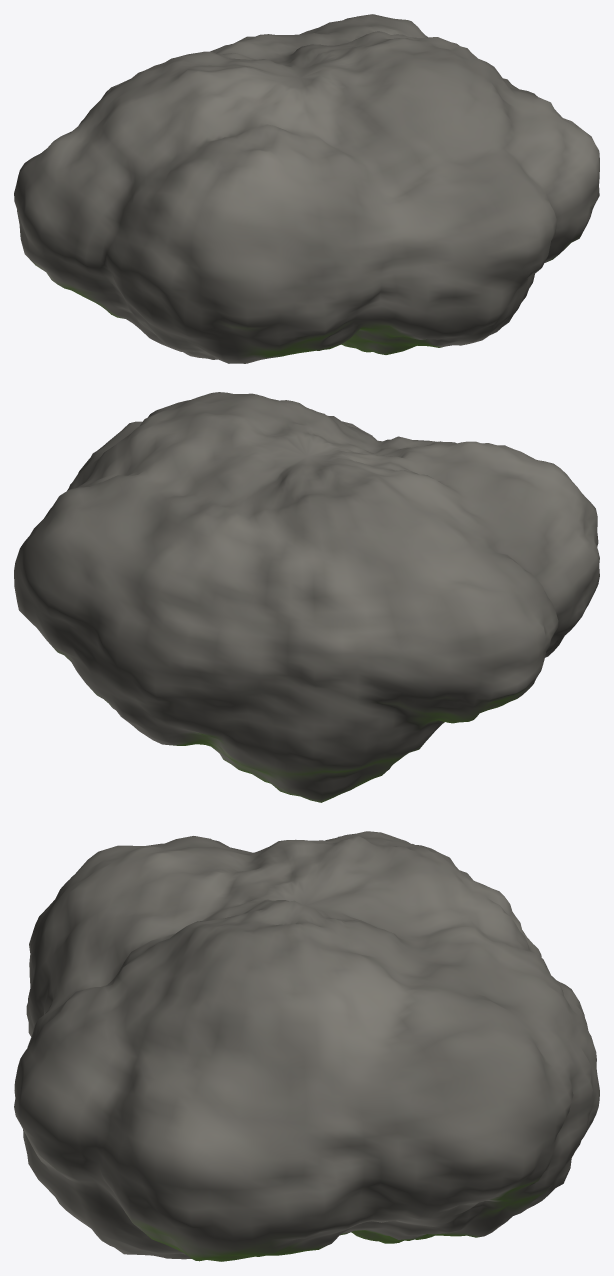
Rendered from SM_Rock_B.fbx.
3 views of the same model, one above another, from view 1: azimuth 30°, elevation 25°; view 2: azimuth 150°, elevation 25°; view 3: azimuth 270°, elevation 25° (orthographic). The views are drawn at different scales.
Visible parts, largest first — view 1: SM_Rock_B; view 2: SM_Rock_B; view 3: SM_Rock_B.
Part boxes in pixels (x1,y1,x2,y2): SM_Rock_B: [14, 14, 599, 363]; SM_Rock_B: [14, 392, 599, 802]; SM_Rock_B: [14, 831, 599, 1261].
Bounding box in the file's own units: 1.58 × 0.867 × 1.32.
